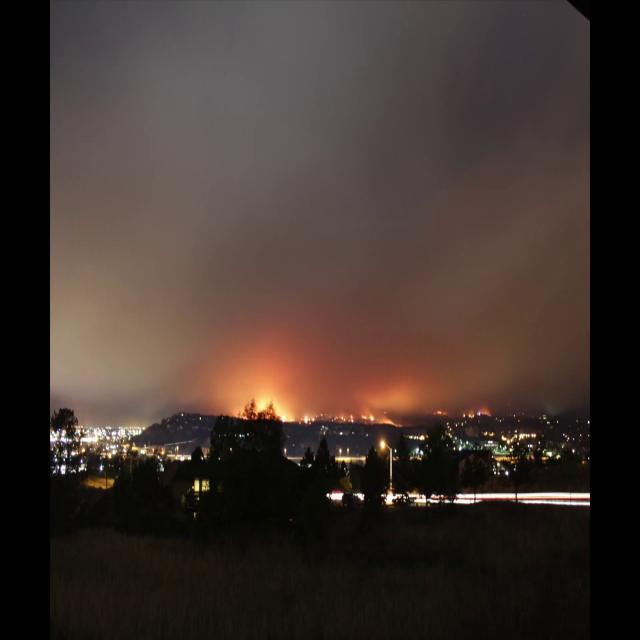Fire: (256, 392, 282, 417), (282, 412, 294, 424), (340, 412, 354, 422), (304, 414, 315, 426), (362, 414, 374, 421), (437, 408, 442, 415)
